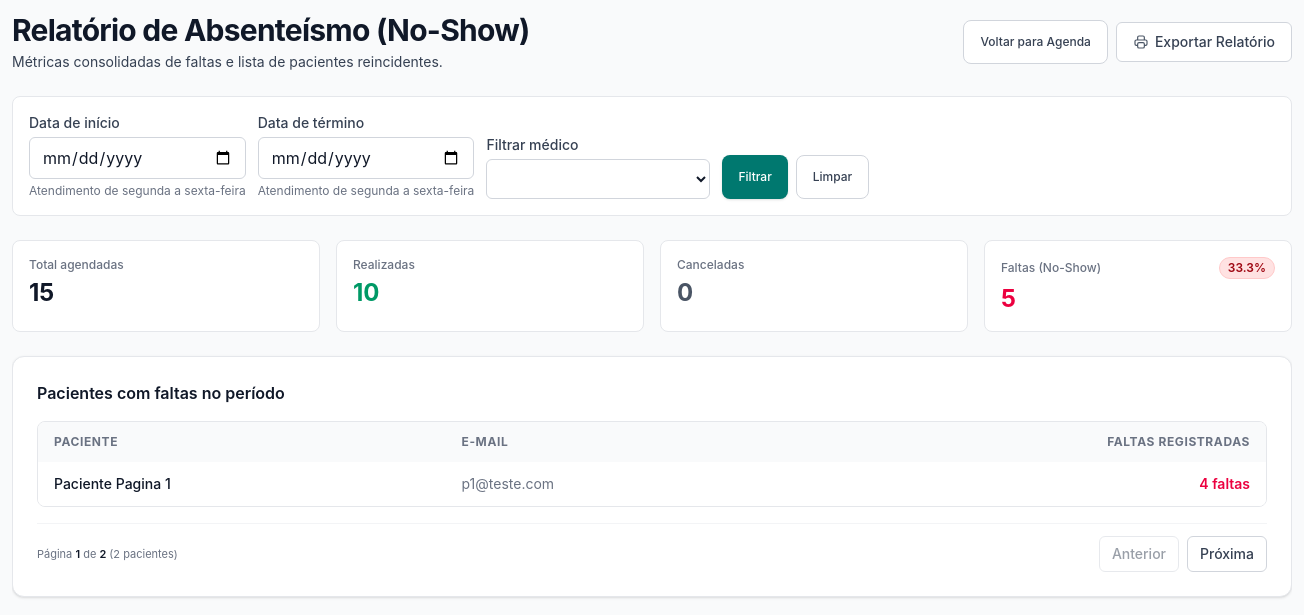
FEAT-06: Relatório de Faltas e Absenteísmo (Front-end) › permite navegar entre páginas de pacientes reincidentes
Expected: the text "Paciente Pagina 1" is shown, [38, 462, 446, 506]
Expected: the text "Página 1 de 2 (2 pacientes)" is shown, [37, 546, 178, 562]
Click the button with aria-label "Ir para a próxima página".
click(1227, 554)  # box [1187, 536, 1267, 572]
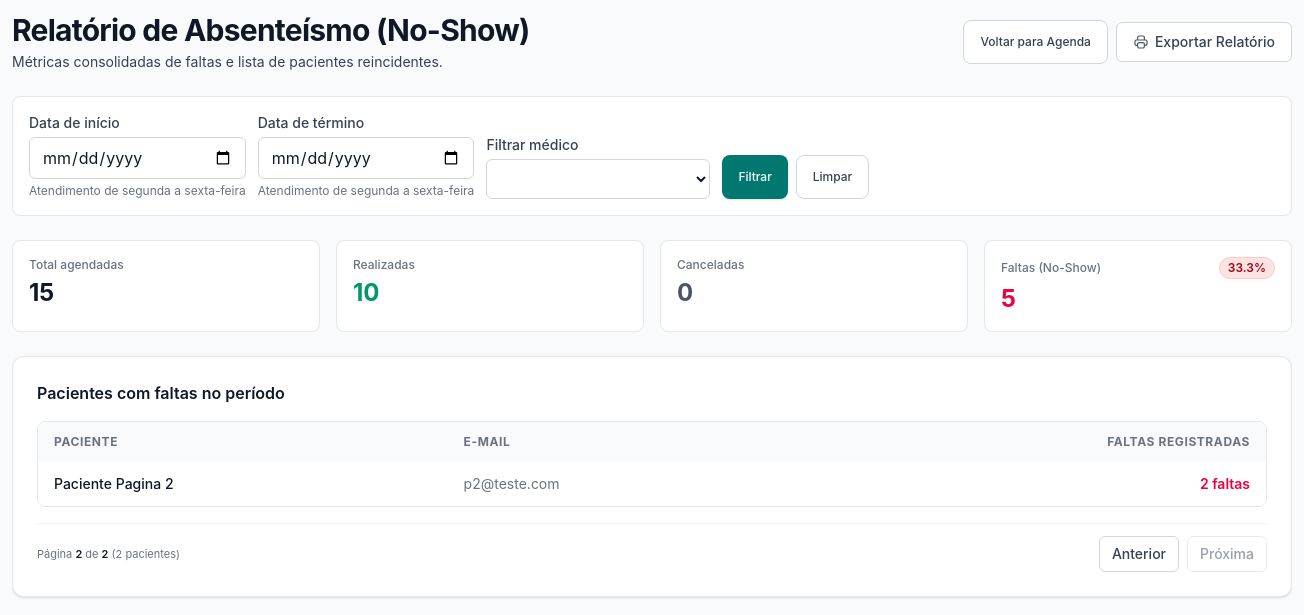
Now the text "Paciente Pagina 2" is shown, box [38, 462, 448, 506]
